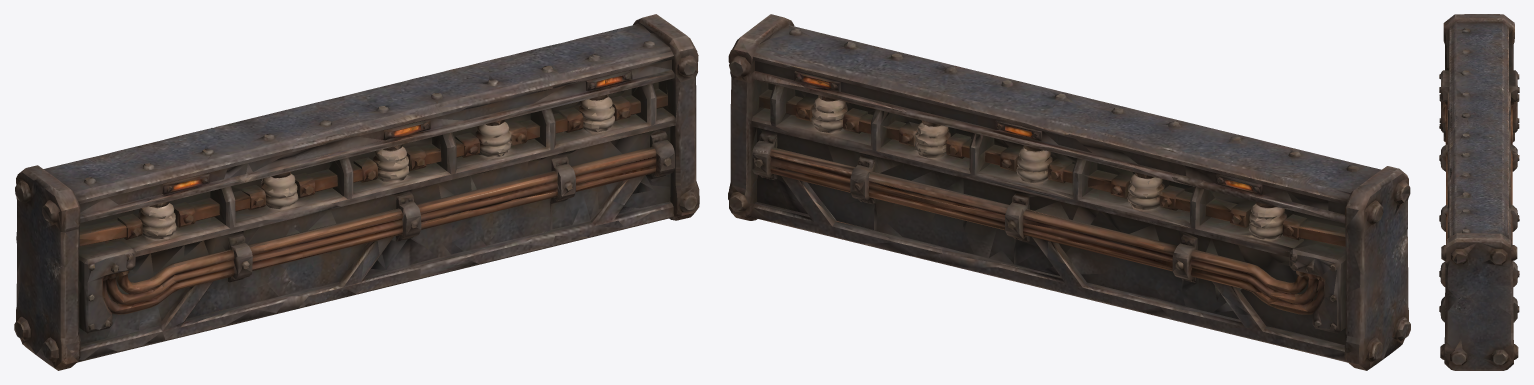
File: ReactorSideBus.glb
3 renders of one model, left to right at view 1: azimuth 30°, elevation 25°; view 2: azimuth 150°, elevation 25°; view 3: azimuth 270°, elevation 25°, orthographic. The views are drawn at different scales.
Parts seen in each view (by area): view 1: tripo_node_0b7f1f48-ff74-49b3-aae6-9ce51a492669; view 2: tripo_node_0b7f1f48-ff74-49b3-aae6-9ce51a492669; view 3: tripo_node_0b7f1f48-ff74-49b3-aae6-9ce51a492669.
Part boxes in pixels (left/top/right/bottom): tripo_node_0b7f1f48-ff74-49b3-aae6-9ce51a492669: left=14, top=14, right=699, bottom=370; tripo_node_0b7f1f48-ff74-49b3-aae6-9ce51a492669: left=728, top=14, right=1410, bottom=370; tripo_node_0b7f1f48-ff74-49b3-aae6-9ce51a492669: left=1439, top=14, right=1519, bottom=370.
Size of the model in its own units: 0.9789 by 0.2621 by 0.1435.
1 material, 1 textured.
